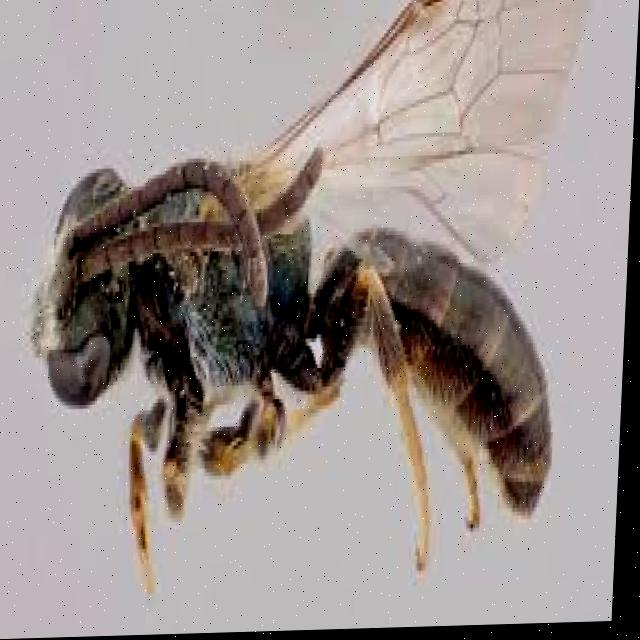Lasioglossum: (21, 0, 588, 583)
